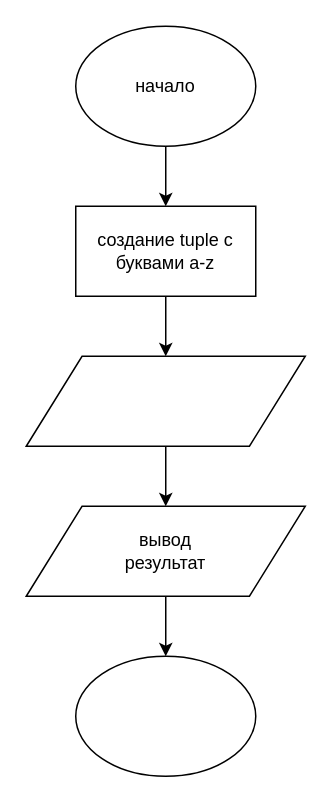
Image size: 332x803. Some labels were removed from this diagram. Each missing label, with the centre of its shape:
ввод num: the point at 165,400
конец: the point at 165,715
